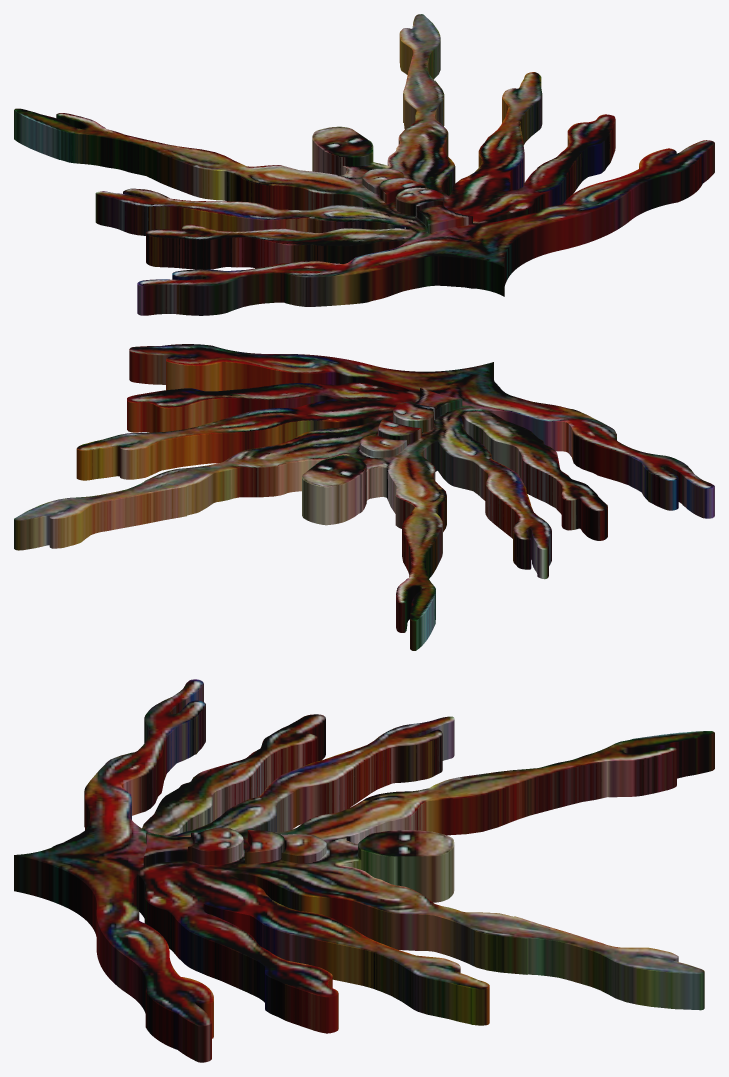
Rendered from muro el despertar del gigante 4.dae.
3 views of the same model, one above another, from view 1: azimuth 30°, elevation 25°; view 2: azimuth 150°, elevation 25°; view 3: azimuth 270°, elevation 25° (orthographic). The views are drawn at different scales.
Parts seen in each view (by area): view 1: SketchUp (×4); view 2: SketchUp (×5); view 3: SketchUp (×5).
Boxes of the visible parts, box(x1,y1,x2,y2) form: SketchUp (×4): box(14, 14, 714, 315); SketchUp (×5): box(14, 344, 714, 650); SketchUp (×5): box(14, 679, 714, 1062).
Bounding box in the file's own units: 50.15 × 42.81 × 3.38.
Materials: 2 (1 with a texture image).
